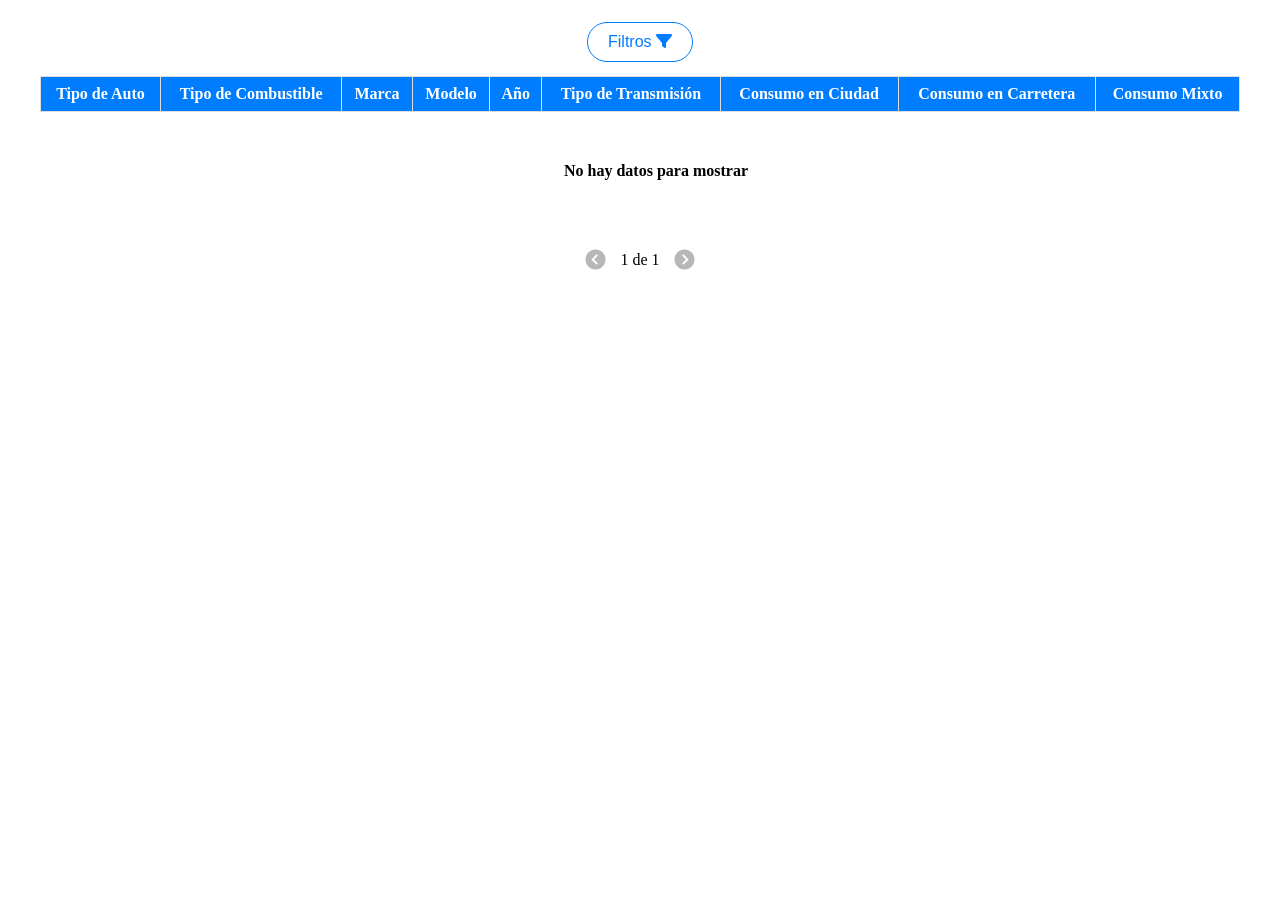
Scenario: VehicleListPage test › displays and interacts with the modal filter with the input field model='ferrari'
Click the button "Filtros".
click(640, 42)  # box [587, 22, 693, 62]
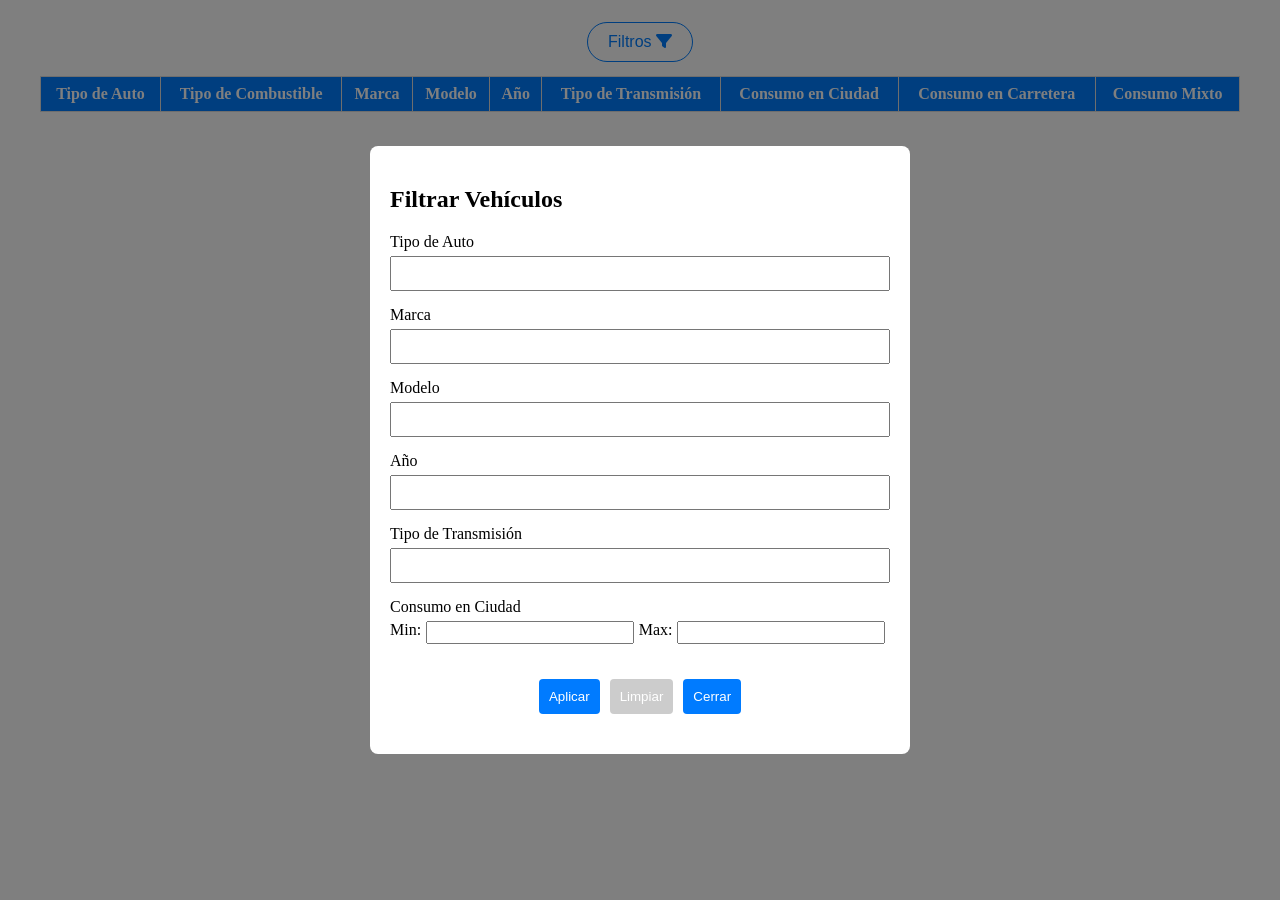
Expected: the heading "Filtrar Vehículos" is shown, [390, 186, 562, 212]
Type "Ferrari" into the field labelled "Modelo".
click(640, 419); type("Ferrari")  # box [390, 402, 890, 437]
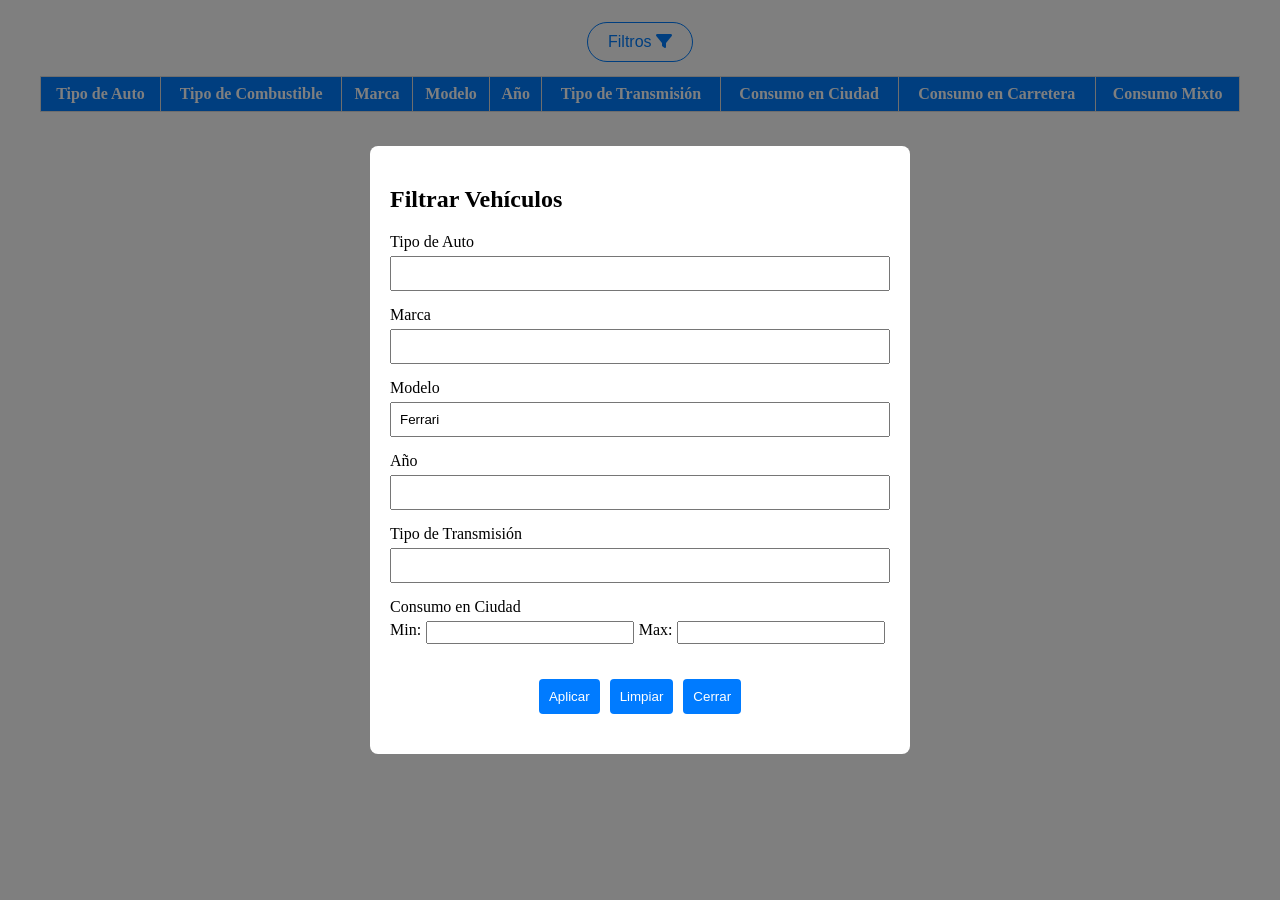
Click the button "Aplicar".
click(569, 696)  # box [539, 679, 600, 714]
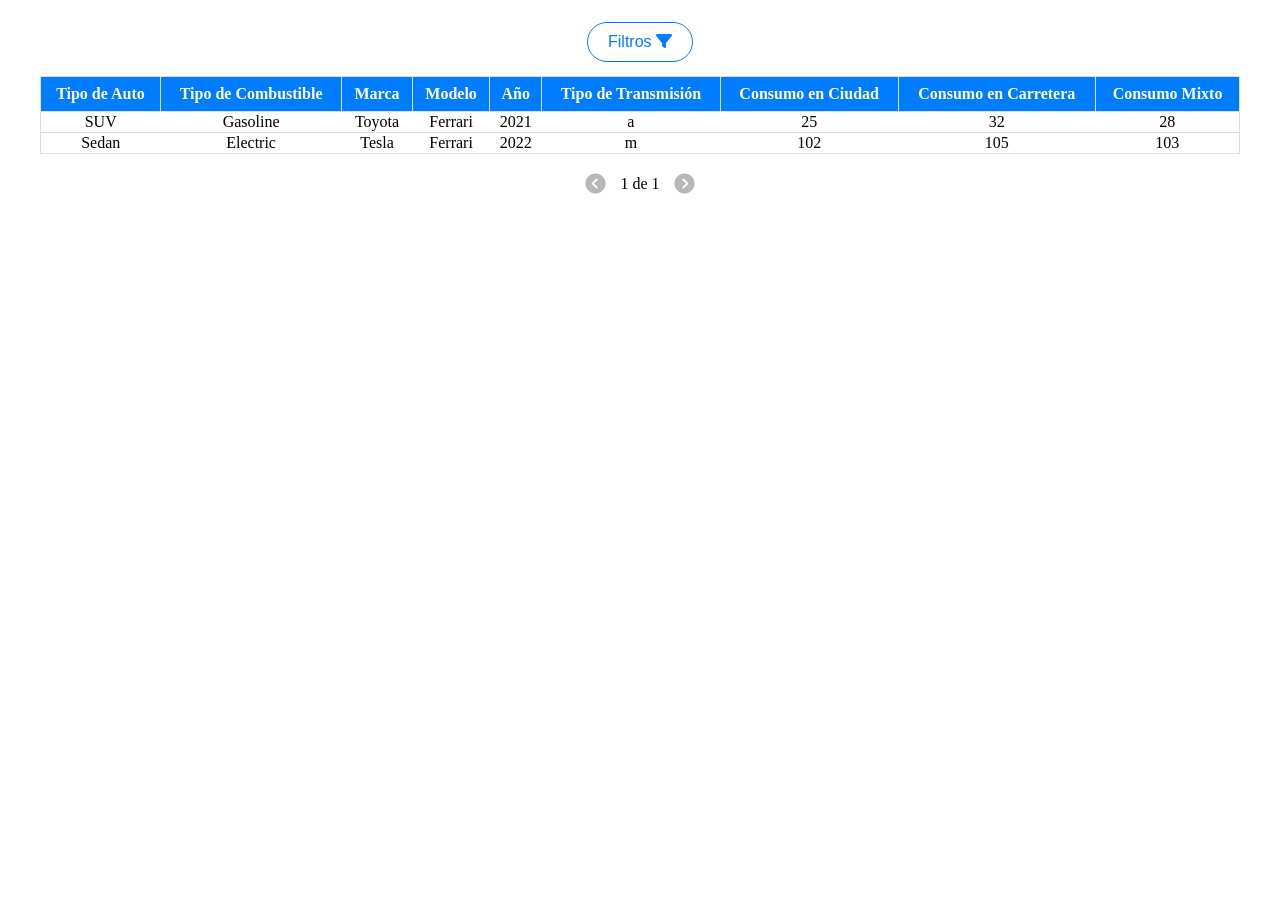
Expected: the heading "Filtrar Vehículos" is gone
